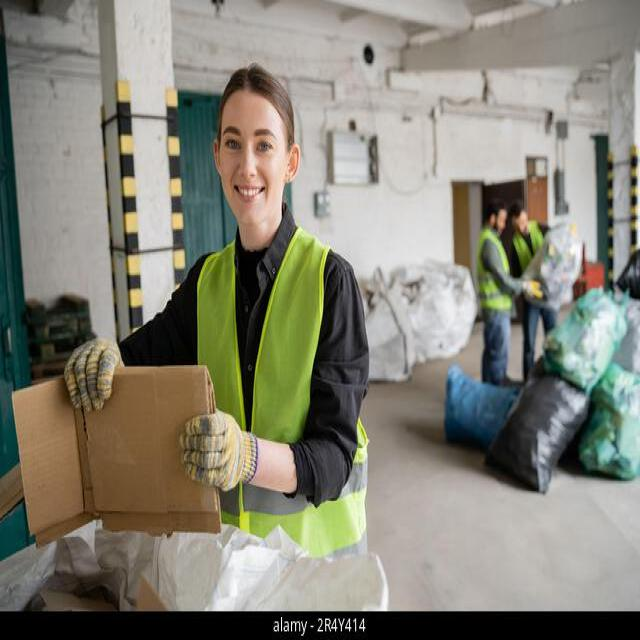cardboard: (23, 416, 202, 536)
trash: (548, 322, 638, 475)
